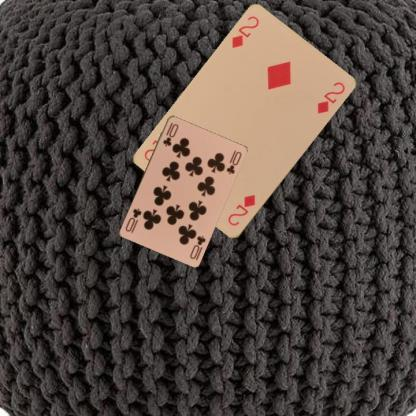10c: (187, 232, 207, 260), (160, 120, 180, 147)
2d: (228, 13, 260, 50), (225, 192, 257, 228)
